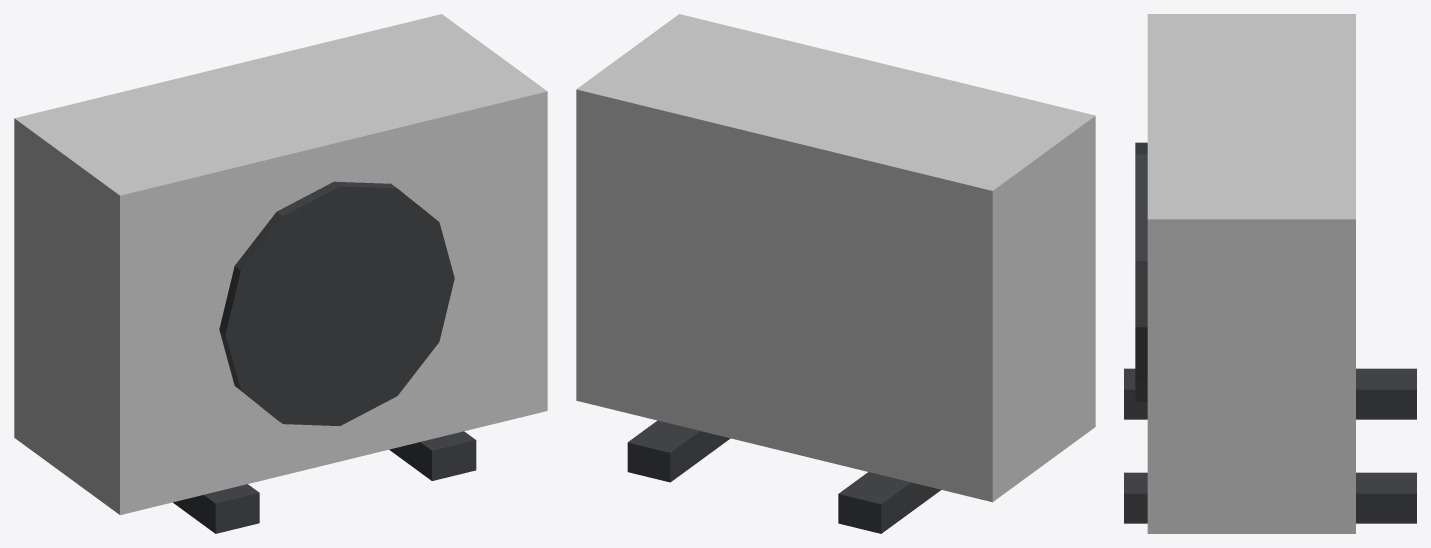
The model's file is Fan_01.glb.
3 renders of one model, left to right at view 1: azimuth 30°, elevation 25°; view 2: azimuth 150°, elevation 25°; view 3: azimuth 270°, elevation 25°, orthographic. The views are drawn at different scales.
Visible parts, largest first — view 1: Fan_01; view 2: Fan_01; view 3: Fan_01.
Part boxes in pixels (x1,y1,x2,y2): Fan_01: (14, 14, 547, 533); Fan_01: (576, 14, 1095, 533); Fan_01: (1124, 14, 1416, 533).
Bounding box in the file's own units: 0.7 × 0.5474 × 0.4217.
1 material, 1 textured.
